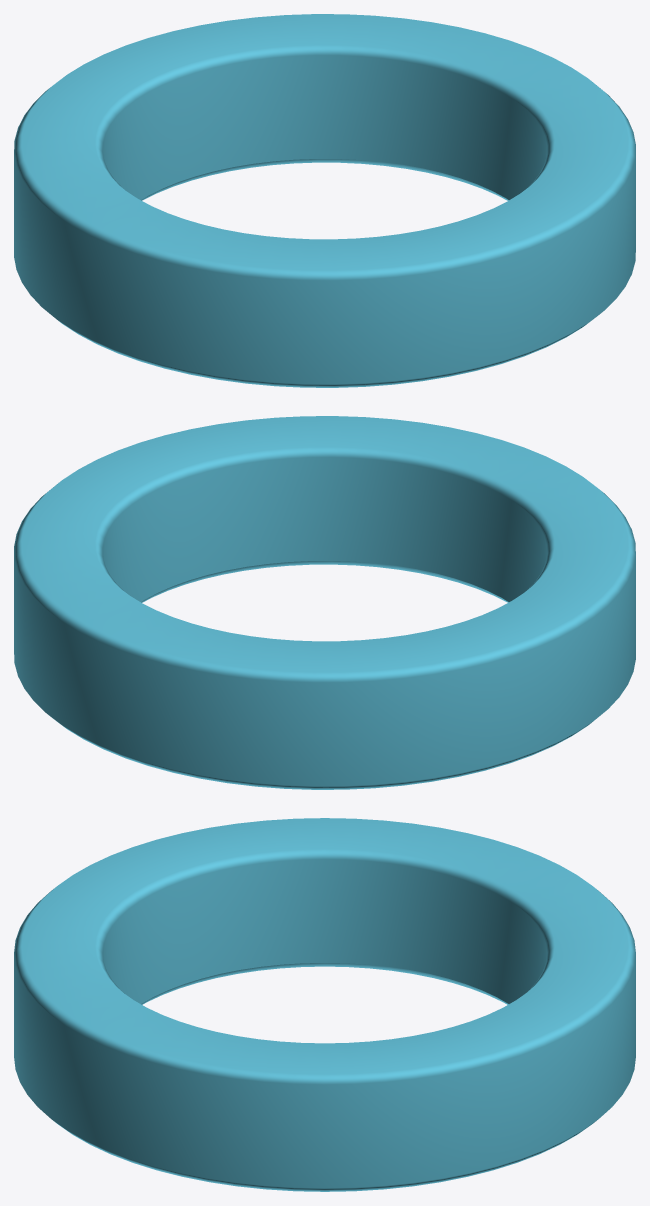
The picture shows the model from 3 angles, top to bottom: view 1: azimuth 30°, elevation 25°; view 2: azimuth 150°, elevation 25°; view 3: azimuth 270°, elevation 25°; orthographic projection.
Visible parts, largest first — view 1: seal_body; view 2: seal_body; view 3: seal_body.
Boxes of the visible parts, x1,y1,x2,y2 form: seal_body: (14, 14, 635, 387); seal_body: (14, 416, 635, 789); seal_body: (14, 818, 635, 1191).
Bounding box in the file's own units: 0.035 × 0.0073 × 0.035.
